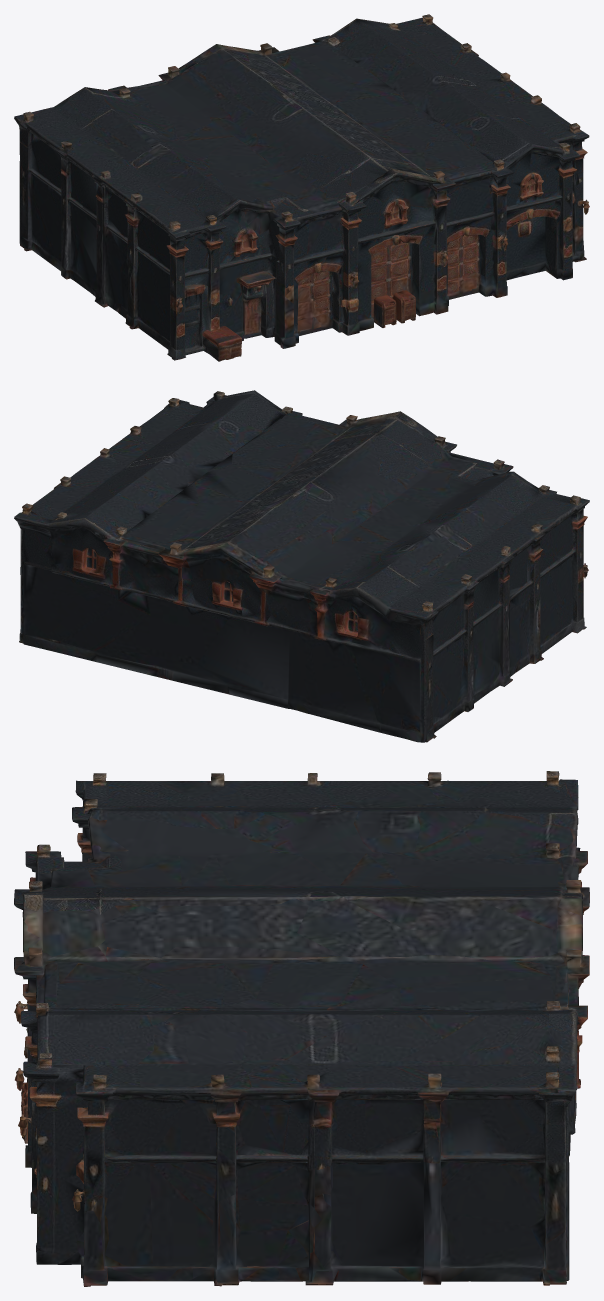
File: ironcrownSkylineBlockC.e7a3aa0b.glb
The picture shows the model from 3 angles, top to bottom: view 1: azimuth 30°, elevation 25°; view 2: azimuth 150°, elevation 25°; view 3: azimuth 270°, elevation 25°; orthographic projection. The views are drawn at different scales.
Size of the model in its own units: 1.9 by 0.6686 by 1.48.
1 material, 1 textured.
